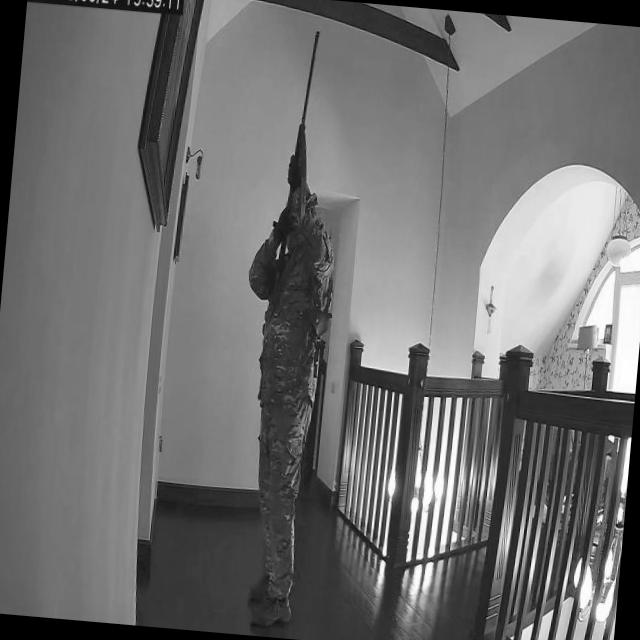gun: (272, 25, 322, 288)
person with a gun: (217, 25, 352, 634)
